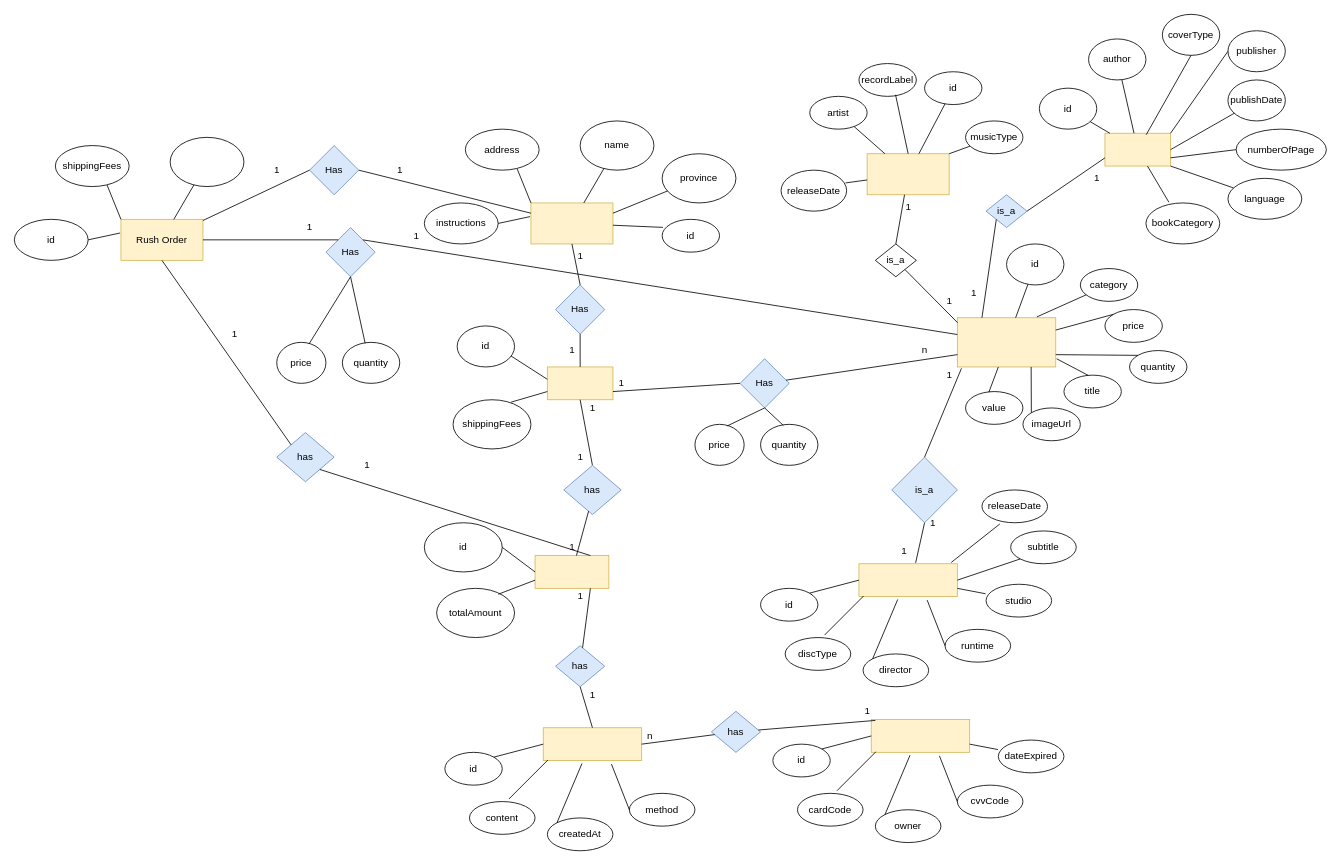
The diagram is 1341 pixels wide and 865 high, and some of its shapes have lost their labels. Here are the shapes that lost their labels. From the top down, the centre of each, then its label:
the point at 206,162: expectedTime
the point at 1137,149: Book
the point at 907,174: CD
the point at 571,223: DeliveryInfo
the point at 1006,342: Media
the point at 580,383: Order
the point at 571,571: Invoice
the point at 907,580: DVD
the point at 592,744: PaymentTransaction
the point at 920,735: Card
